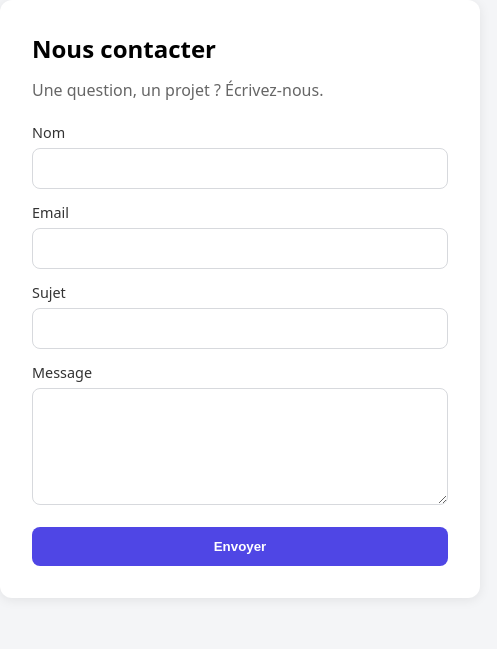
it: ContactForm › affiche un message d'erreur générique si fetch échoue (réseau)
The width and height of the screenshot is (497, 649).
Type "Alice Dupont" into the field labelled "Nom" at coordinates (240, 168), box [32,148,448,189]
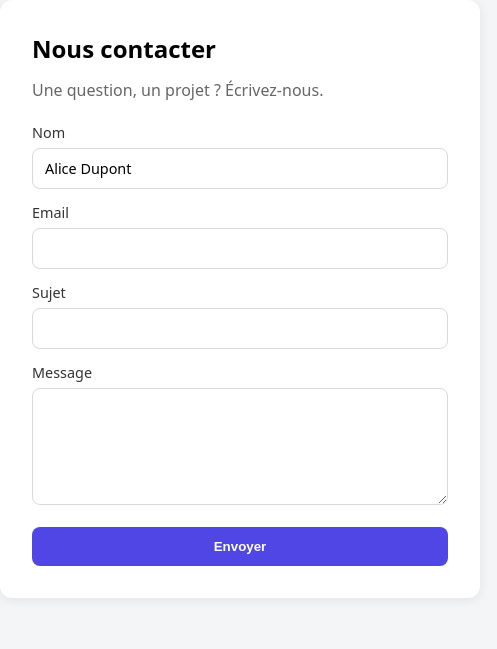
Type "alice@example.com" into the field labelled "Email" at coordinates (240, 248), box [32,228,448,269]
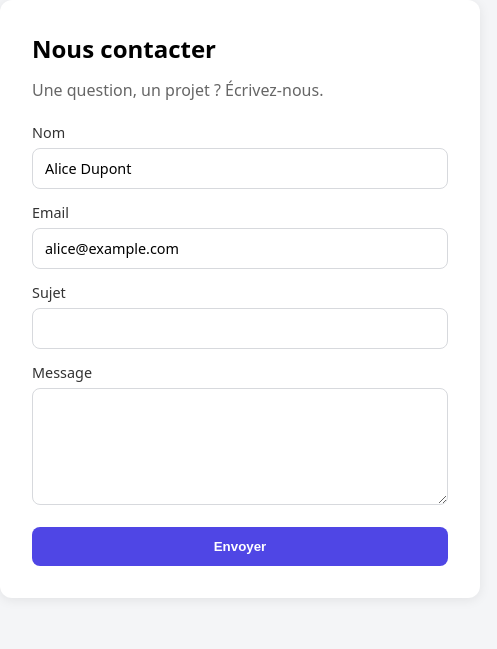
Type "Une question" into the field labelled "Sujet" at coordinates (240, 328), box [32,308,448,349]
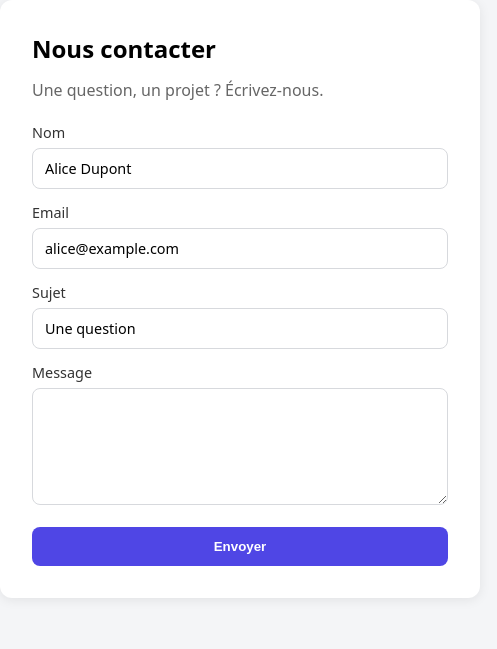
Type "Bonjour, ceci est un message de test." into the text box labelled "Message" at coordinates (240, 446), box [32,388,448,505]
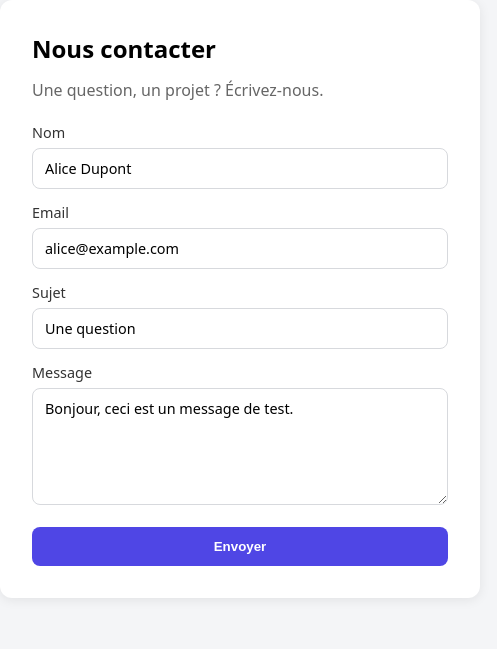
Submit the form
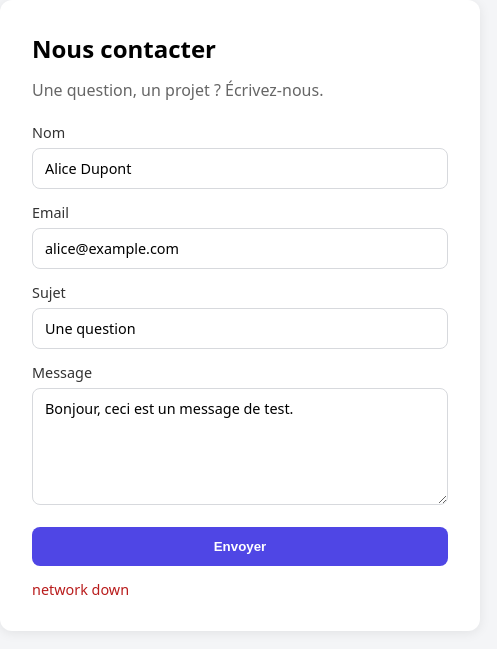
expect the text with class "error" reads "network down": met, box [32,580,129,599]
